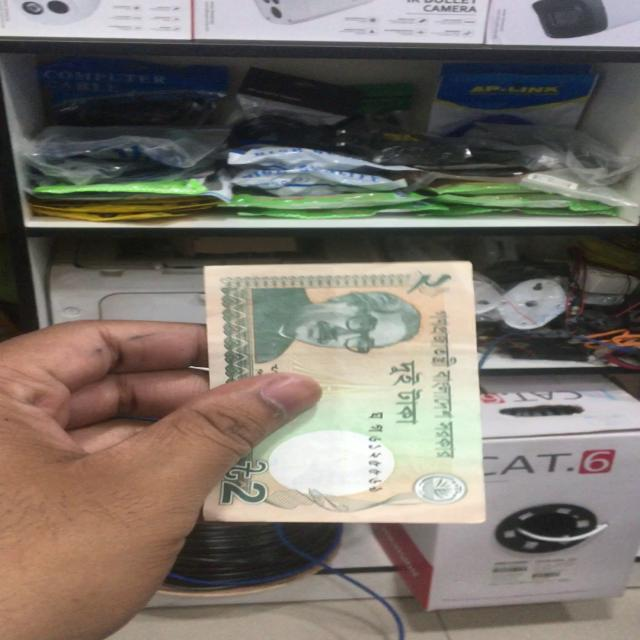Taka: (197, 263, 489, 526)
